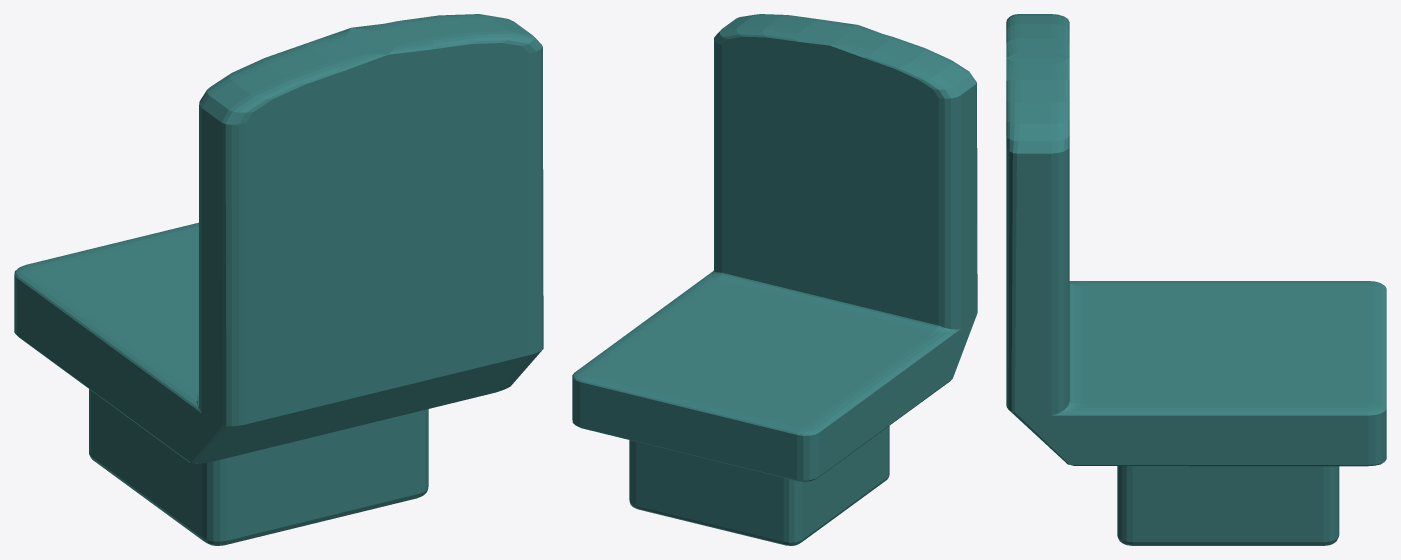
Rendered from Communication-chair.glb.
3 views of the same model, side by side, from view 1: azimuth 30°, elevation 25°; view 2: azimuth 150°, elevation 25°; view 3: azimuth 270°, elevation 25° (orthographic). The views are drawn at different scales.
Parts seen in each view (by area): view 1: Cube.002; view 2: Cube.002; view 3: Cube.002.
Boxes of the visible parts, x1,y1,x2,y2 form: Cube.002: [14, 14, 543, 545]; Cube.002: [572, 14, 977, 545]; Cube.002: [1006, 14, 1386, 545].
Bounding box in the file's own units: 2 × 3.1 × 2.4.
